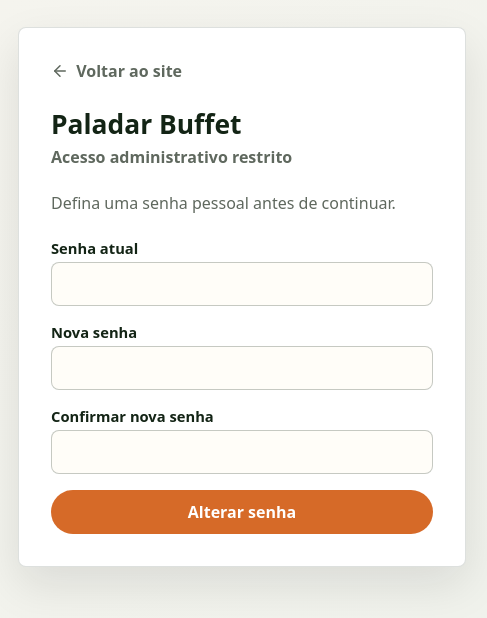
it: ChangePasswordPage › validates confirmation before submitting a new password
This screenshot has width=487, height=618.
Type "StrongPass123" into the password field labelled "Senha atual" at {"x": 242, "y": 284}, box [51,262,433,306]
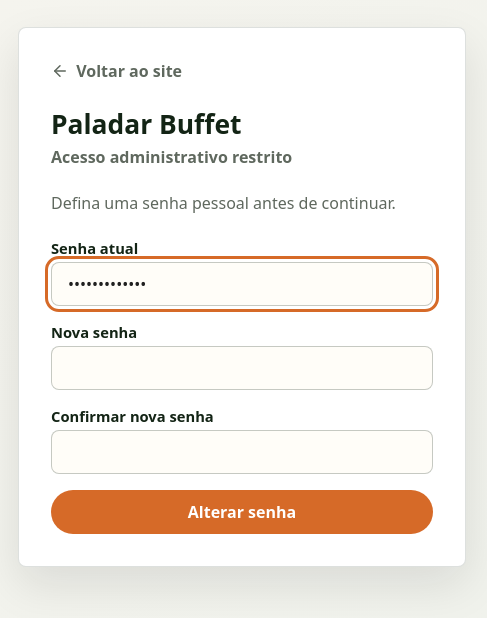
Type "ChangedPass123" into the password field labelled "Nova senha" at {"x": 242, "y": 368}, box [51,346,433,390]
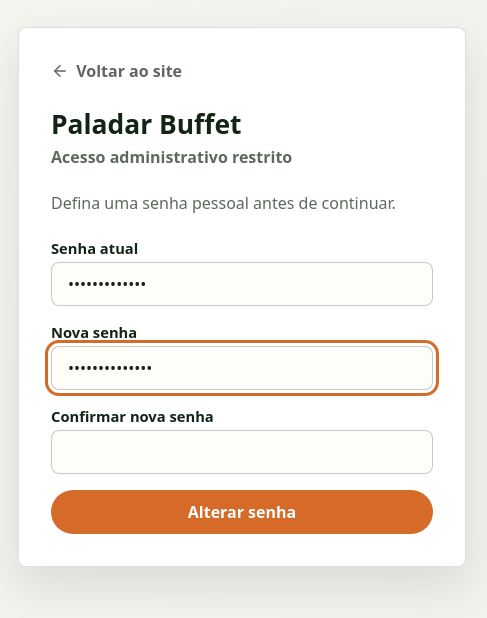
Type "DifferentPass123" into the password field labelled "Confirmar nova senha" at {"x": 242, "y": 452}, box [51,430,433,474]
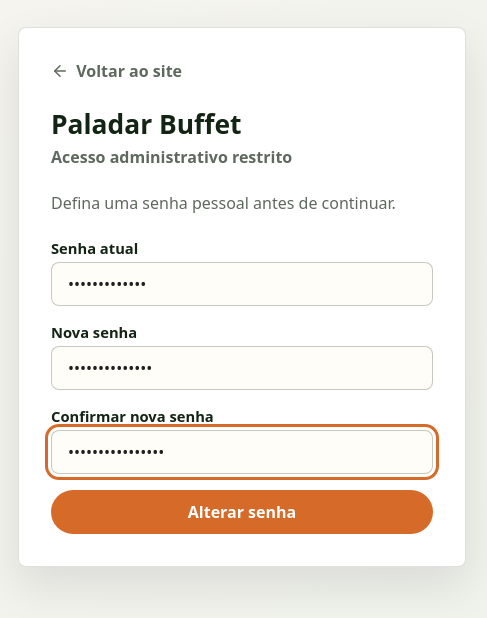
Click the button "Alterar senha" at {"x": 242, "y": 512}, box [51,490,433,534]
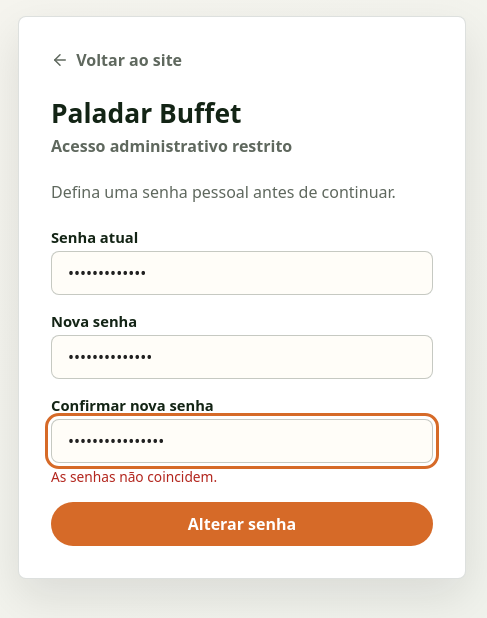
Check: the text "As senhas não coincidem." is shown, box [51,466,217,486]
